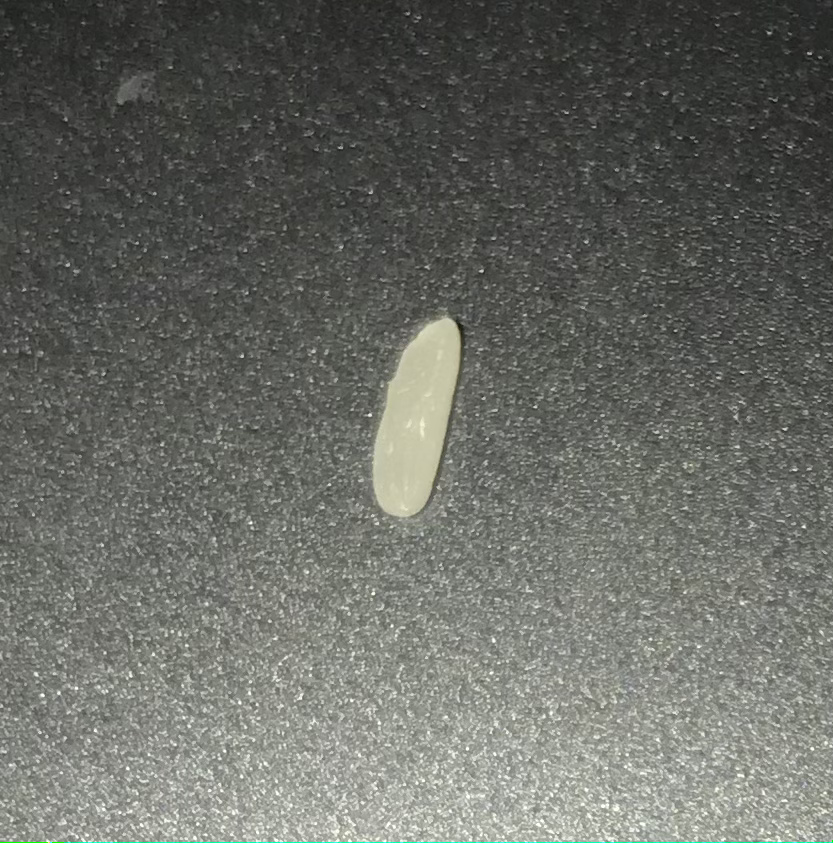Gao Tam Thom: (350, 314, 490, 524)
